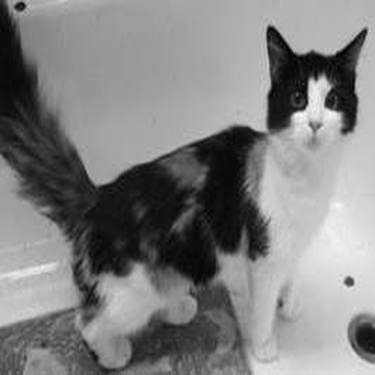cat: (3, 4, 367, 370)
